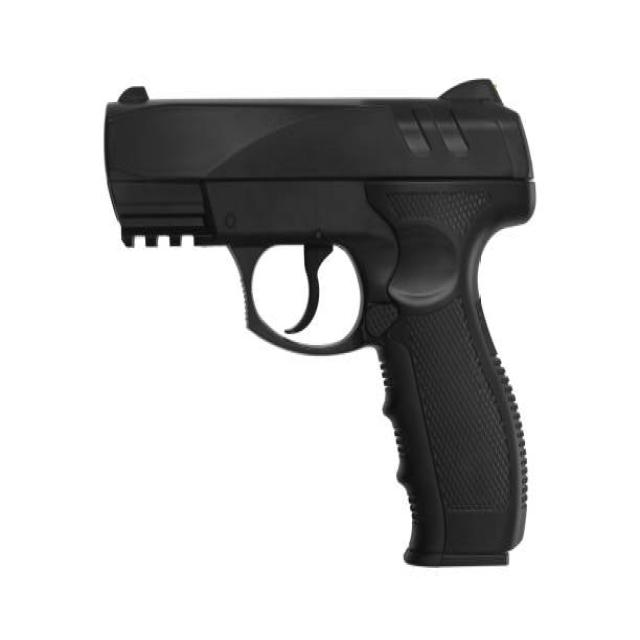pistol: (99, 75, 542, 579)
